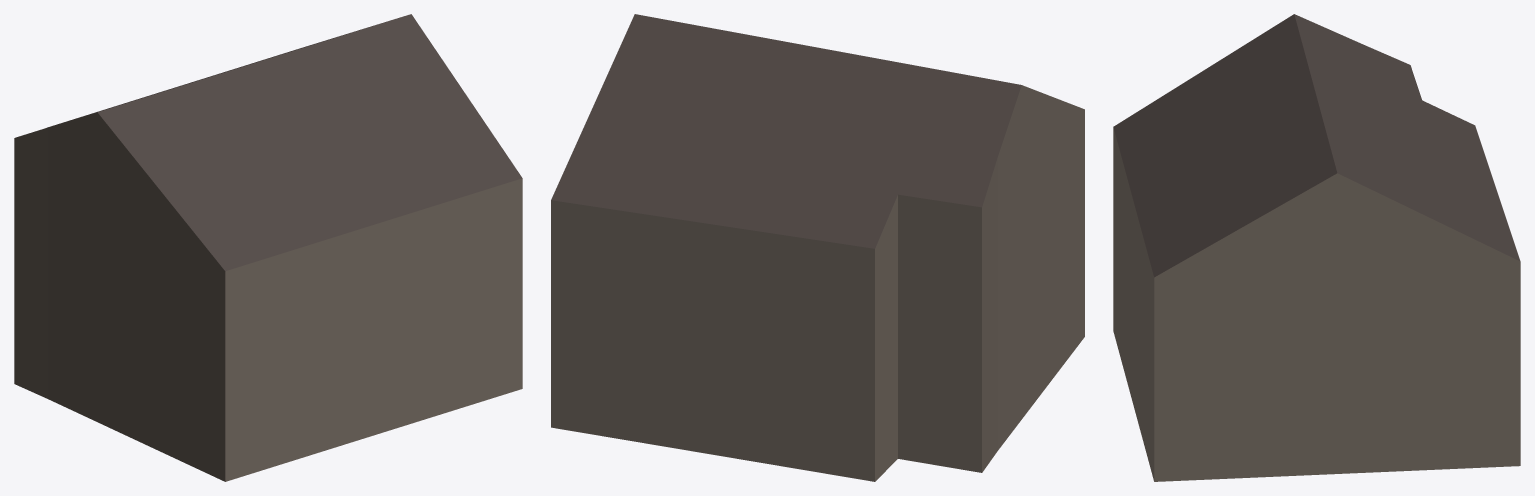
3 renders of one model, left to right at view 1: azimuth 30°, elevation 25°; view 2: azimuth 150°, elevation 25°; view 3: azimuth 270°, elevation 25°, orthographic. The views are drawn at different scales.
Parts seen in each view (by area): view 1: HP-w1512965855; view 2: HP-w1512965855; view 3: HP-w1512965855.
Boxes of the visible parts, x1=… form: HP-w1512965855: x1=14, y1=14, x2=522, y2=481; HP-w1512965855: x1=551, y1=14, x2=1084, y2=481; HP-w1512965855: x1=1113, y1=14, x2=1520, y2=481.
Bounding box in the file's own units: 11.22 × 8.83 × 10.83.
